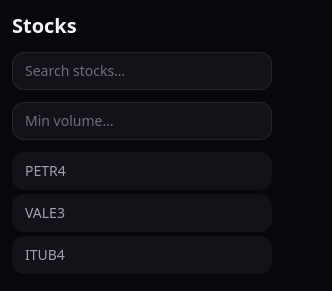
Test: AssetList › volume filter › filters out items below the typed threshold, keeping items at or above it
The image size is (332, 291).
Type "500000" into the number field named "Minimum volume for Stocks" at (142, 121), box top-left (12, 102), bottom-right (272, 140)
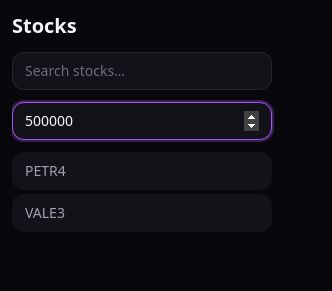
expect the button "PETR4" is shown: met, box top-left (12, 152), bottom-right (272, 190)
expect the button "ITUB4" is gone: met
